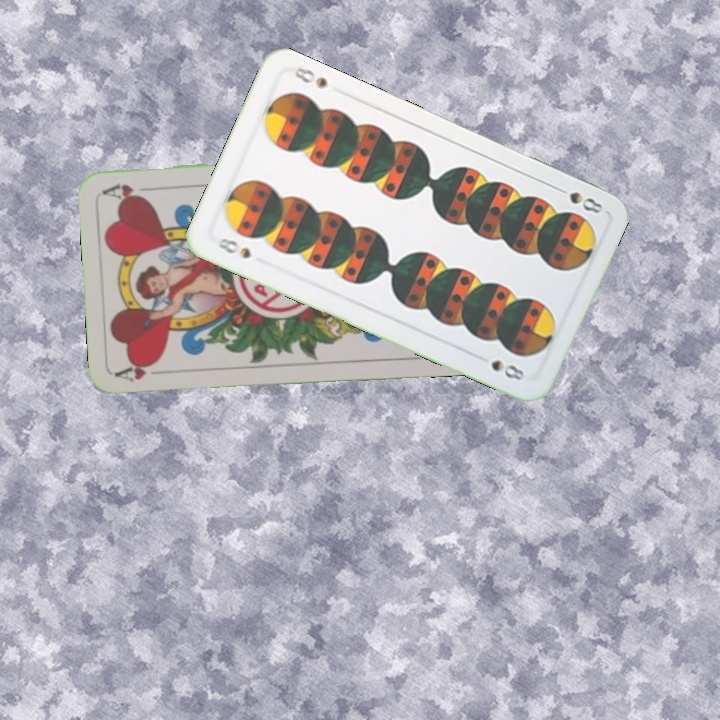HA: (113, 358, 172, 385)
S8: (550, 182, 605, 217), (212, 233, 254, 262)
